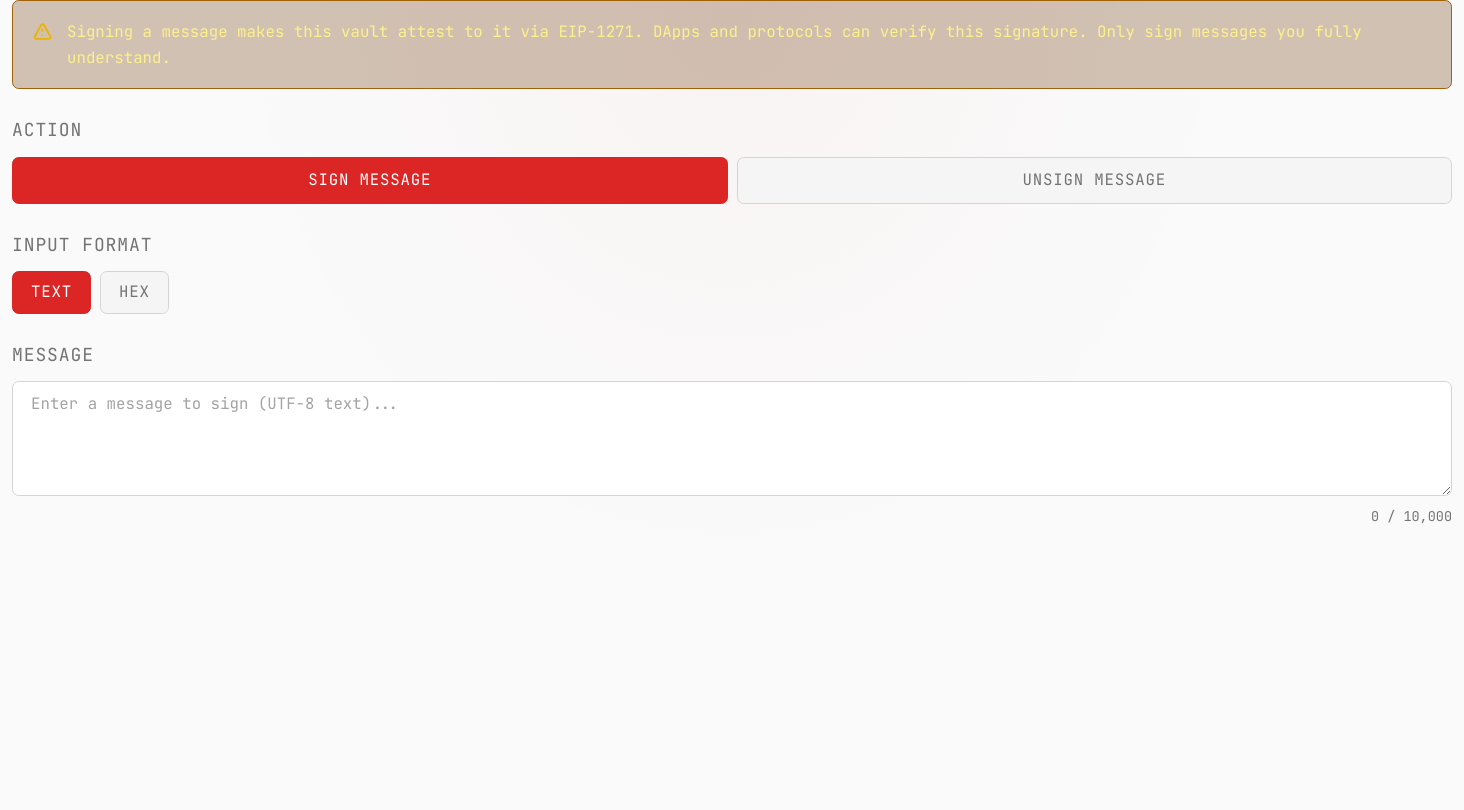
Test: SignMessageForm › valid text message › shows the message hash
This screenshot has width=1464, height=810.
Step 1. Type "hello" into the text box → point(732, 438), box [12,381,1452,496]
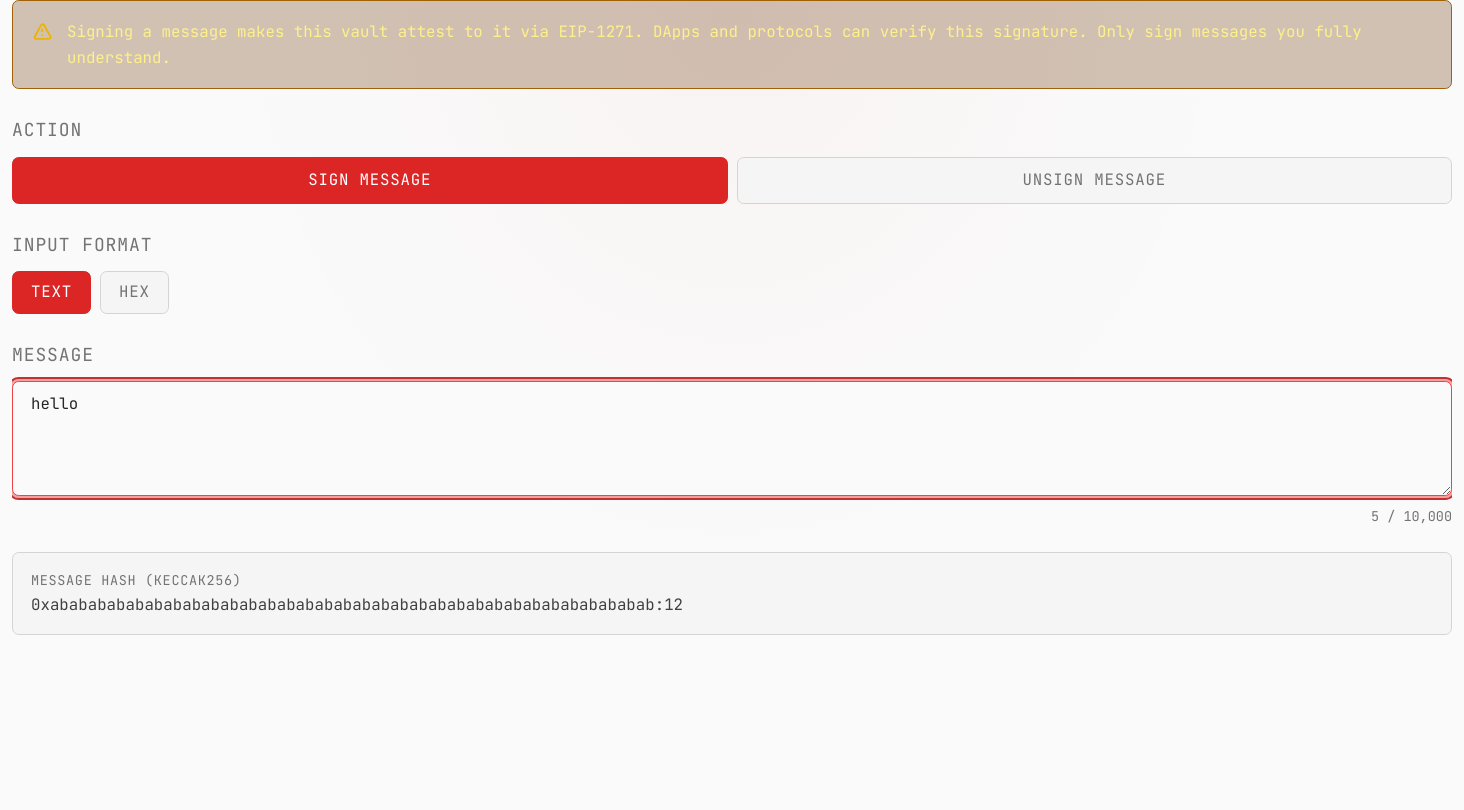
Check: the text "Message Hash (keccak256)" is shown, box [31,571,242,589]
